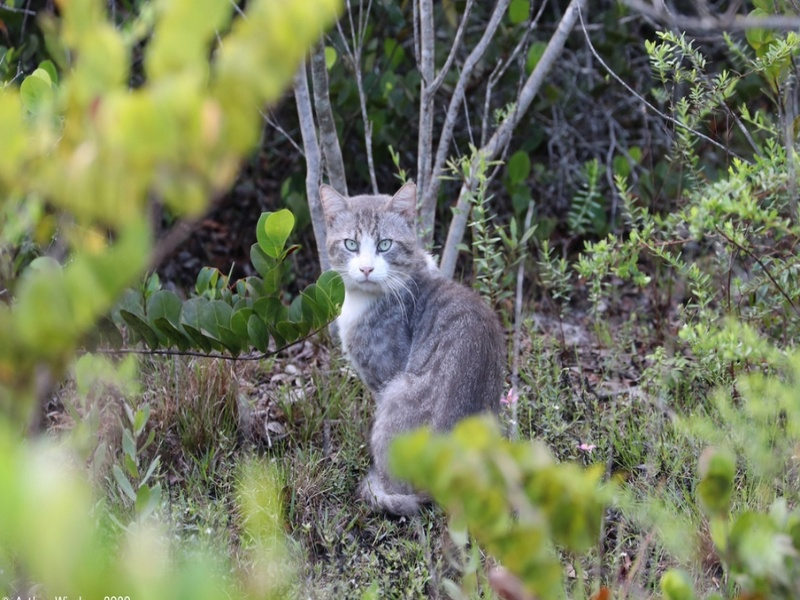cat: (316, 179, 507, 512)
